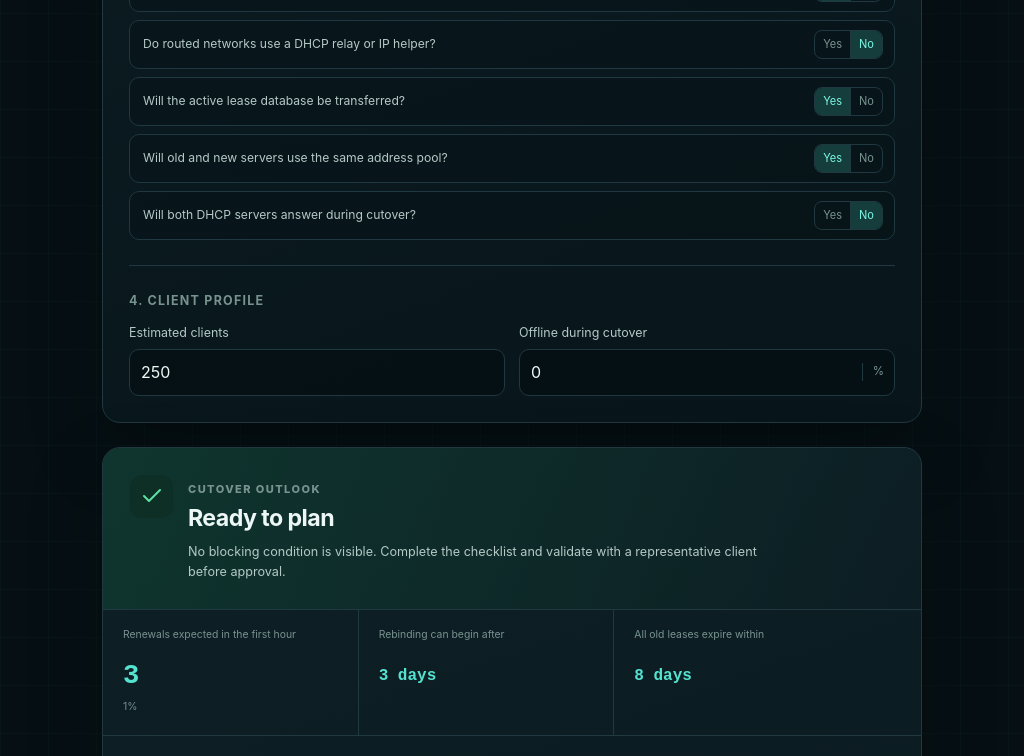
Test case: DHCPulse Workbench › resets lease edits to the safe default scenario
(page scrolled)
Replace the text in the number field labelled "Estimated clients" with "7" at x=317, y=372, box [130,350,504,395]
(page scrolled)
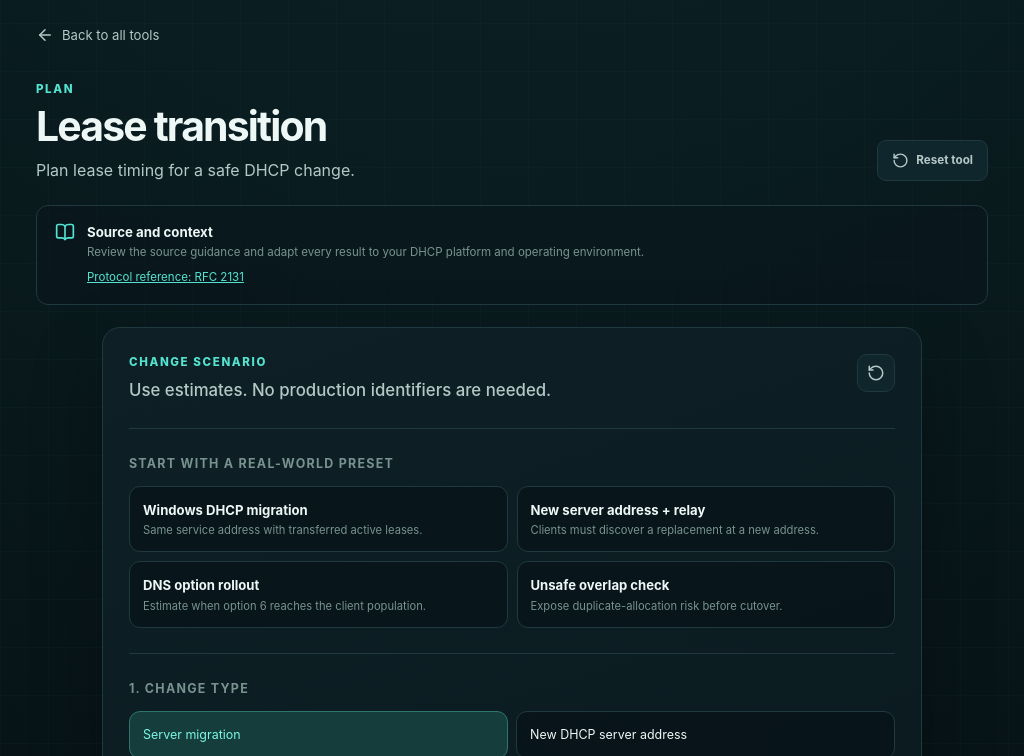
Click the button named "Reset scenario" at x=876, y=373, box [857,354,895,392]
(page scrolled)
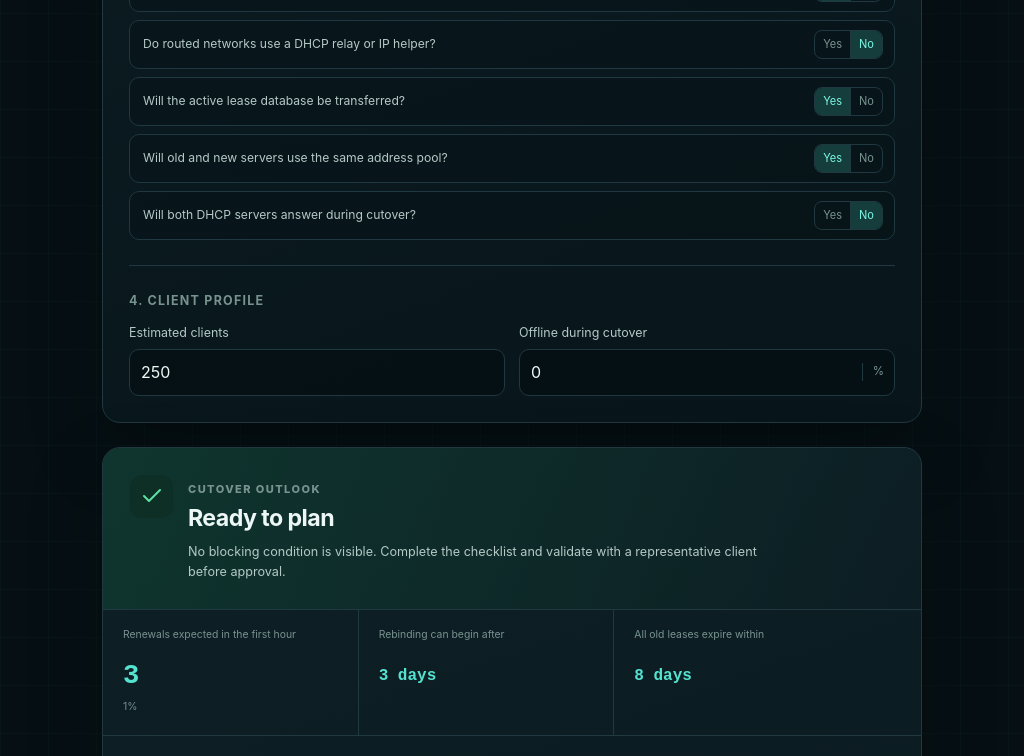
Now the number field labelled "Estimated clients" holds "250", box [130,350,504,395]
